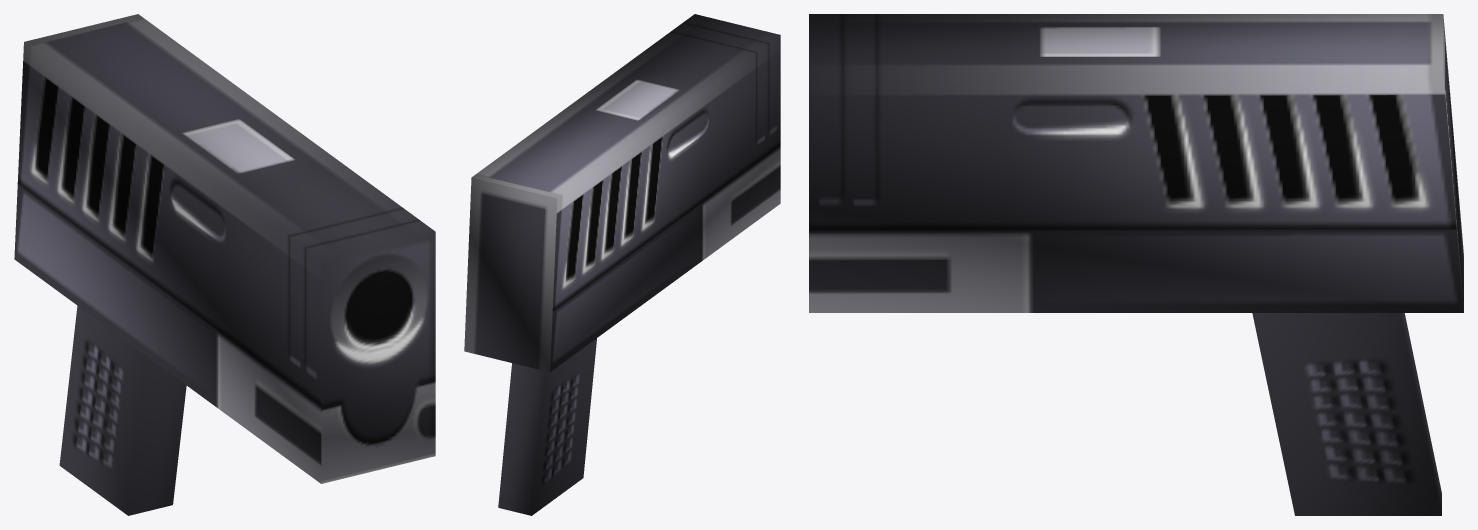
Rendered from WpnHG_Pistol_01.FBX.
3 views of the same model, side by side, from view 1: azimuth 30°, elevation 25°; view 2: azimuth 150°, elevation 25°; view 3: azimuth 270°, elevation 25° (orthographic). The views are drawn at different scales.
Visible parts, largest first — view 1: WPN_Pistol; view 2: WPN_Pistol; view 3: WPN_Pistol.
Boxes of the visible parts, <box> form: WPN_Pistol: <box>14,14,435,515</box>; WPN_Pistol: <box>464,14,780,515</box>; WPN_Pistol: <box>809,14,1463,515</box>.
Size of the model in its own units: 11.61 by 41.89 by 53.97.
